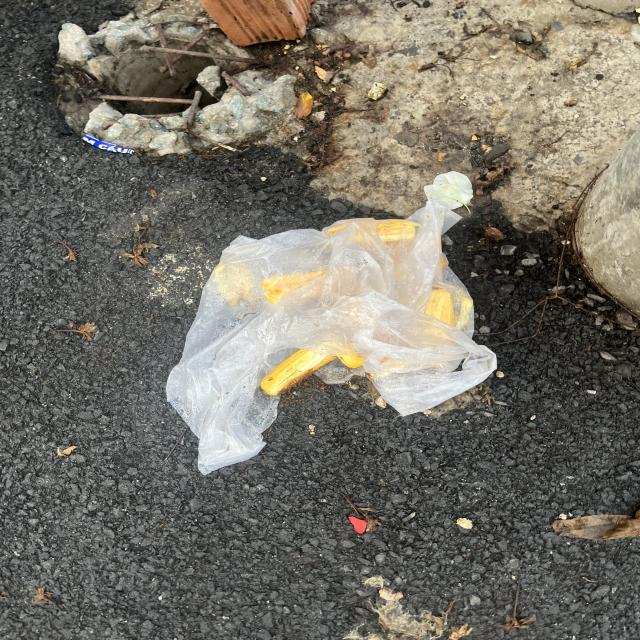trash bag: (164, 198, 498, 477)
